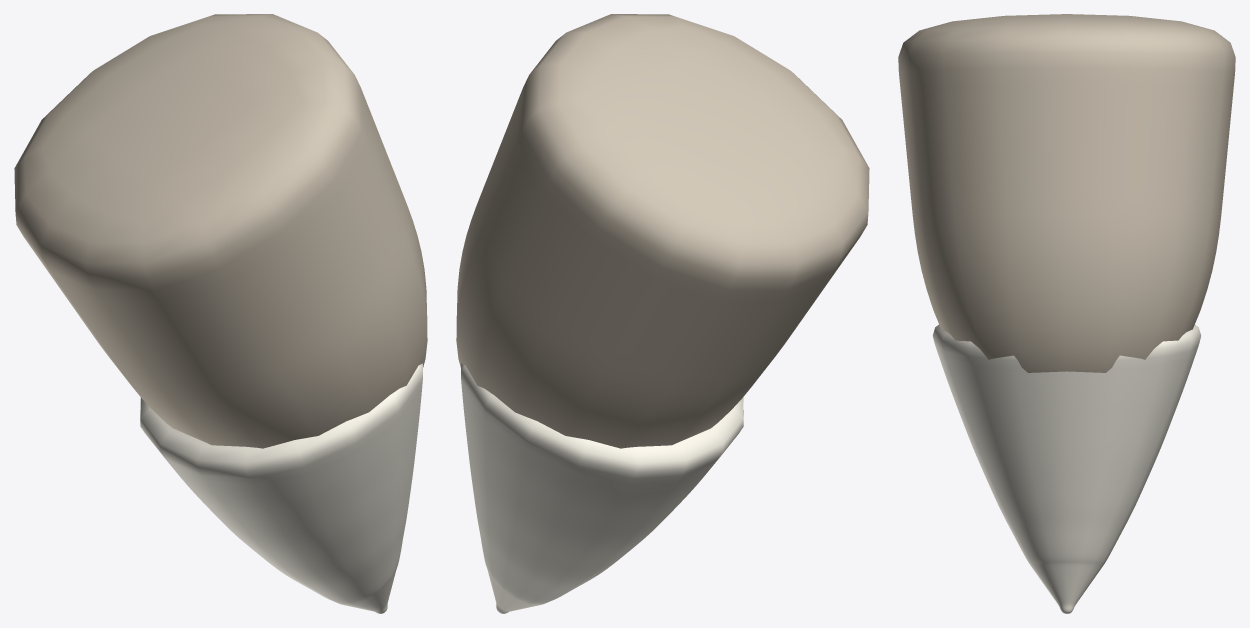
Rendered from creature.crabtip.glb.
The picture shows the model from 3 angles, left to right: view 1: azimuth 30°, elevation 25°; view 2: azimuth 150°, elevation 25°; view 3: azimuth 270°, elevation 25°; orthographic projection. The views are drawn at different scales.
Visible parts, largest first — view 1: Skin, Claw; view 2: Skin, Claw; view 3: Skin, Claw.
Boxes of the visible parts, bbox=[...] form: Skin: bbox=[14, 14, 427, 448]; Claw: bbox=[140, 363, 422, 613]; Skin: bbox=[456, 14, 869, 448]; Claw: bbox=[461, 363, 743, 613]; Skin: bbox=[898, 14, 1235, 372]; Claw: bbox=[932, 324, 1201, 613].
Size of the model in its own units: 0.1683 by 0.2638 by 0.1466.
